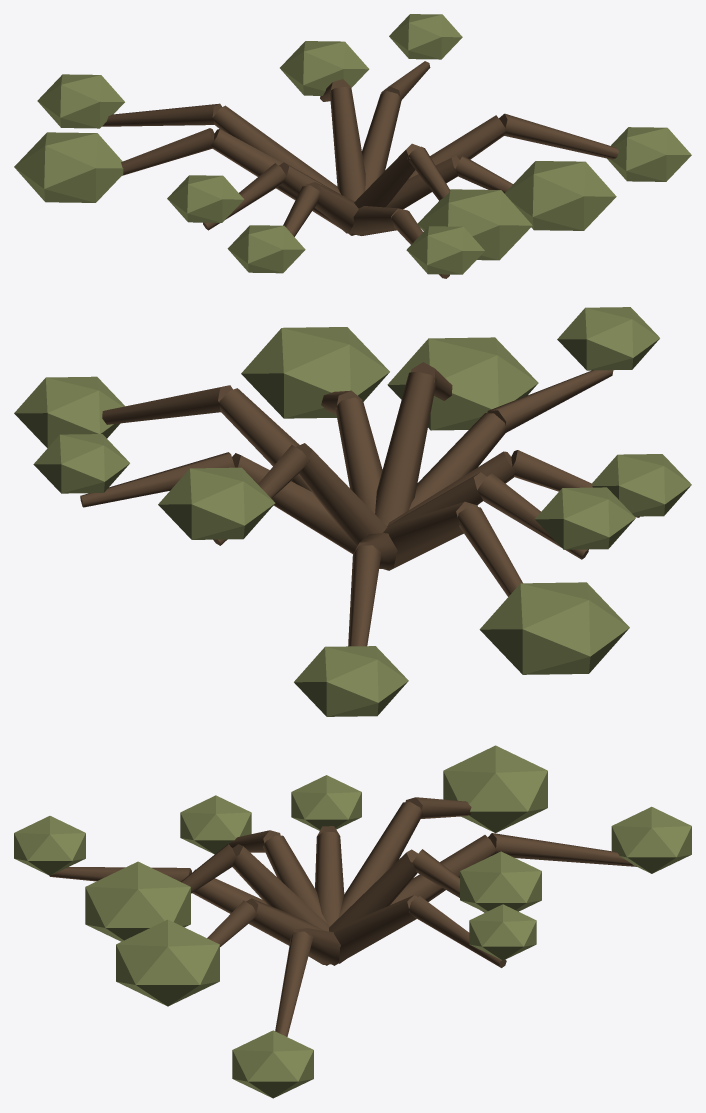
Rendered from shrub_dry_mid.glb.
3 views of the same model, one above another, from view 1: azimuth 30°, elevation 25°; view 2: azimuth 150°, elevation 25°; view 3: azimuth 270°, elevation 25° (orthographic). The views are drawn at different scales.
Size of the model in its own units: 2.31 by 0.4827 by 2.31.
